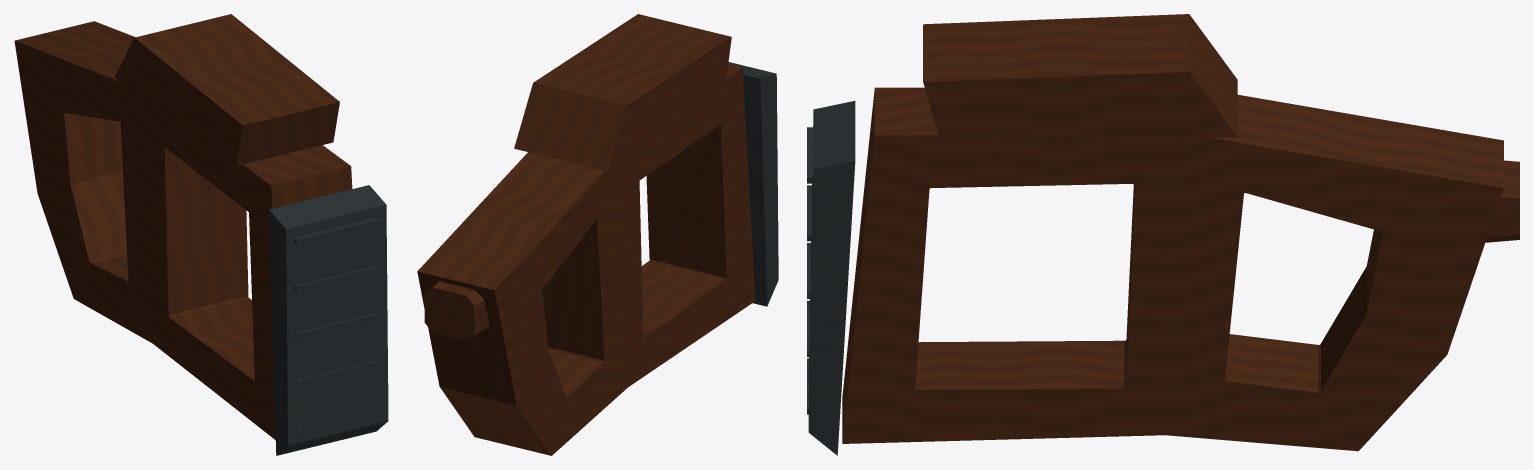
File: vss_stock.glb
3 views of the same model, side by side, from view 1: azimuth 30°, elevation 25°; view 2: azimuth 150°, elevation 25°; view 3: azimuth 270°, elevation 25° (orthographic). The views are drawn at different scales.
Visible parts, largest first — view 1: stock__vss_stock_LOD0_RAID_Secondary_Original_laminate, stock__vss_stock_LOD1_RAID_Secondary_Original_laminate, stock__vss_stock_LOD1_RAID_Secondary_Original_steel, stock__vss_stock_LOD0_RAID_Secondary_Original_steel; view 2: stock__vss_stock_LOD0_RAID_Secondary_Original_laminate, stock__vss_stock_LOD1_RAID_Secondary_Original_laminate, stock__vss_stock_LOD0_RAID_Secondary_Original_steel, stock__vss_stock_LOD1_RAID_Secondary_Original_steel; view 3: stock__vss_stock_LOD0_RAID_Secondary_Original_laminate, stock__vss_stock_LOD1_RAID_Secondary_Original_laminate, stock__vss_stock_LOD0_RAID_Secondary_Original_steel, stock__vss_stock_LOD1_RAID_Secondary_Original_steel.
Boxes of the visible parts, x1=… form: stock__vss_stock_LOD0_RAID_Secondary_Original_laminate: x1=15, y1=16, x2=350, y2=438; stock__vss_stock_LOD1_RAID_Secondary_Original_laminate: x1=14, y1=14, x2=352, y2=439; stock__vss_stock_LOD1_RAID_Secondary_Original_steel: x1=269, y1=185, x2=388, y2=455; stock__vss_stock_LOD0_RAID_Secondary_Original_steel: x1=269, y1=186, x2=385, y2=454; stock__vss_stock_LOD0_RAID_Secondary_Original_laminate: x1=419, y1=15, x2=749, y2=454; stock__vss_stock_LOD1_RAID_Secondary_Original_laminate: x1=417, y1=14, x2=755, y2=455; stock__vss_stock_LOD0_RAID_Secondary_Original_steel: x1=728, y1=62, x2=777, y2=304; stock__vss_stock_LOD1_RAID_Secondary_Original_steel: x1=729, y1=62, x2=778, y2=306; stock__vss_stock_LOD0_RAID_Secondary_Original_laminate: x1=842, y1=16, x2=1519, y2=449; stock__vss_stock_LOD1_RAID_Secondary_Original_laminate: x1=842, y1=14, x2=1503, y2=451; stock__vss_stock_LOD0_RAID_Secondary_Original_steel: x1=807, y1=116, x2=854, y2=451; stock__vss_stock_LOD1_RAID_Secondary_Original_steel: x1=808, y1=101, x2=855, y2=455.
Size of the model in its own units: 0.088 by 0.263 by 0.442.
2 materials, 2 textured.
